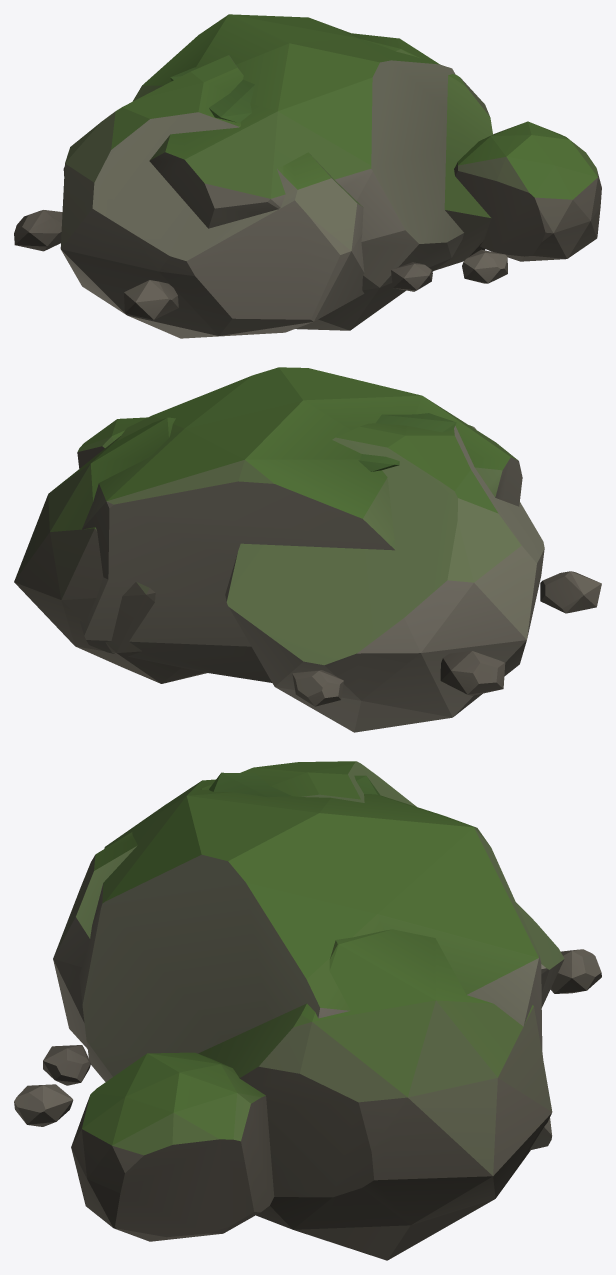
File: jungle-rocks.glb
3 views of the same model, one above another, from view 1: azimuth 30°, elevation 25°; view 2: azimuth 150°, elevation 25°; view 3: azimuth 270°, elevation 25° (orthographic). The views are drawn at different scales.
Visible parts, largest first — view 1: boulder-0, boulder-1; view 2: boulder-1, boulder-0; view 3: boulder-0, boulder-1.
Part boxes in pixels (box(x1,y1,x2,y2)): boulder-0: box(63, 14, 601, 330); boulder-1: box(14, 32, 492, 338); boulder-1: box(14, 417, 544, 732); boulder-0: box(77, 367, 601, 706); boulder-0: box(14, 772, 601, 1241); boulder-1: box(43, 761, 564, 1260).
Bounding box in the file's own units: 3.05 × 1.63 × 2.45.
